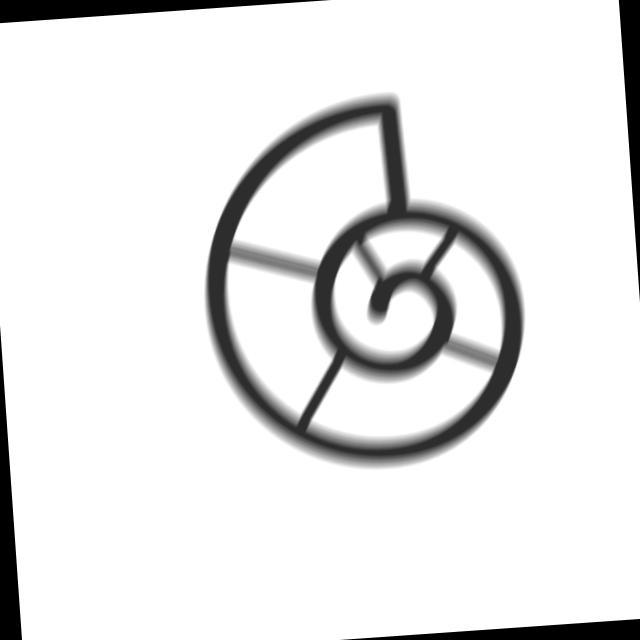fossil: (186, 78, 542, 486)
